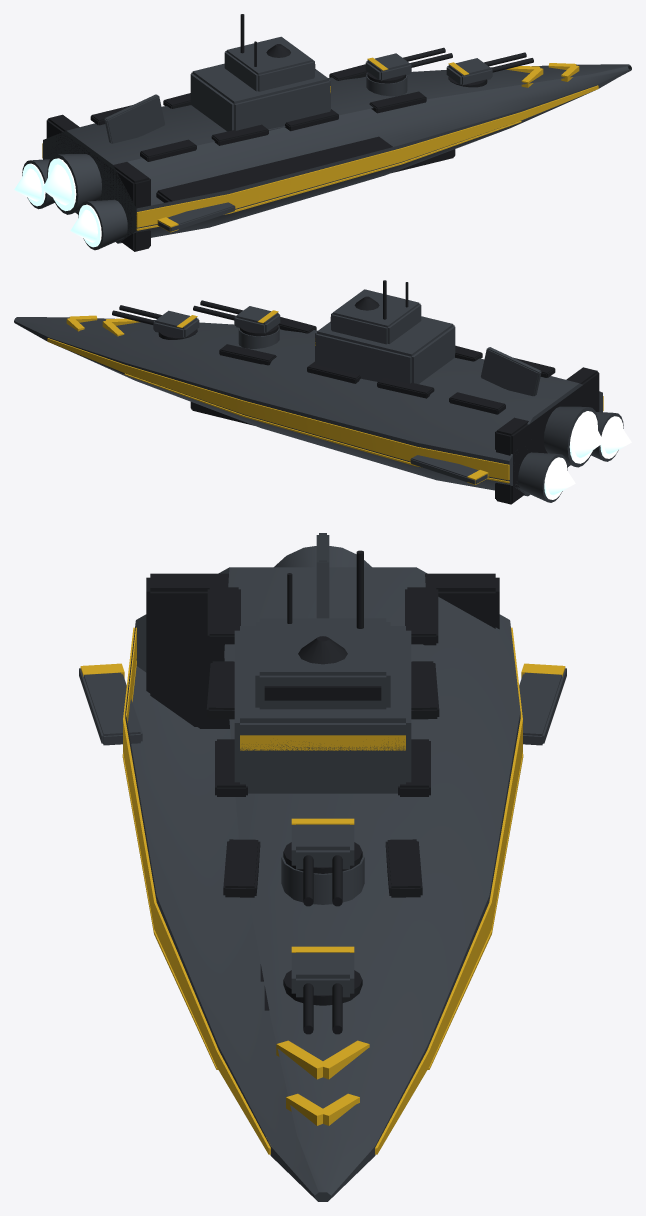
File: frigate.glb
The picture shows the model from 3 angles, top to bottom: view 1: azimuth 30°, elevation 25°; view 2: azimuth 150°, elevation 25°; view 3: azimuth 270°, elevation 25°; orthographic projection. The views are drawn at different scales.
Visible parts, largest first — view 1: frigate_gunmetal, frigate_hull_dark, frigate_greyline_yellow, frigate_glow; view 2: frigate_gunmetal, frigate_hull_dark, frigate_greyline_yellow, frigate_glow; view 3: frigate_gunmetal, frigate_hull_dark, frigate_greyline_yellow.
Boxes of the visible parts, bbox=[...] form: frigate_gunmetal: bbox=[22, 36, 631, 250]; frigate_hull_dark: bbox=[46, 14, 533, 251]; frigate_greyline_yellow: bbox=[42, 57, 598, 232]; frigate_glow: bbox=[14, 158, 101, 247]; frigate_gunmetal: bbox=[14, 289, 623, 502]; frigate_hull_dark: bbox=[112, 280, 599, 504]; frigate_greyline_yellow: bbox=[47, 310, 603, 484]; frigate_glow: bbox=[544, 411, 631, 499]; frigate_gunmetal: bbox=[79, 533, 566, 1201]; frigate_hull_dark: bbox=[146, 550, 499, 1034]; frigate_greyline_yellow: bbox=[80, 627, 565, 1154].
Bounding box in the file's own units: 65.3 × 18.2 × 23.47.
